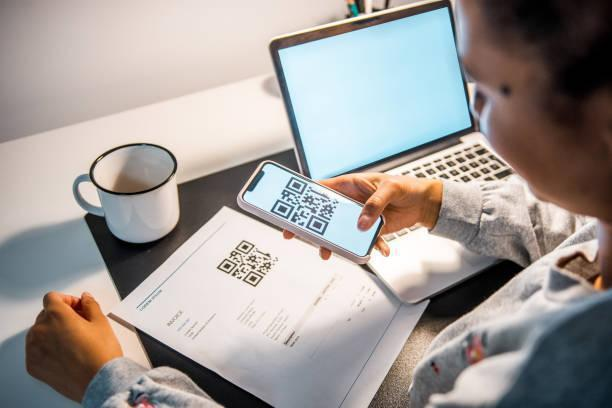qr_code: (270, 177, 339, 235), (217, 240, 279, 287)
